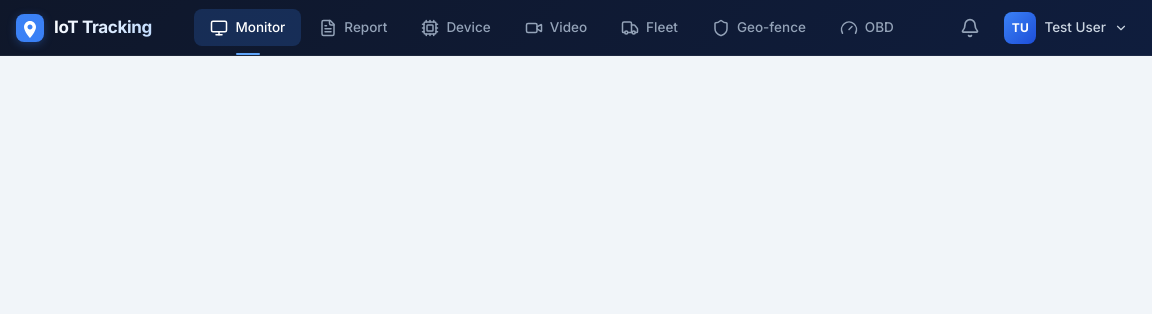
Test: TopNavbar › opens user dropdown on click
The image size is (1152, 314).
Click the button "TU Test User" at point(1068, 28), box [1000,8,1136,48]
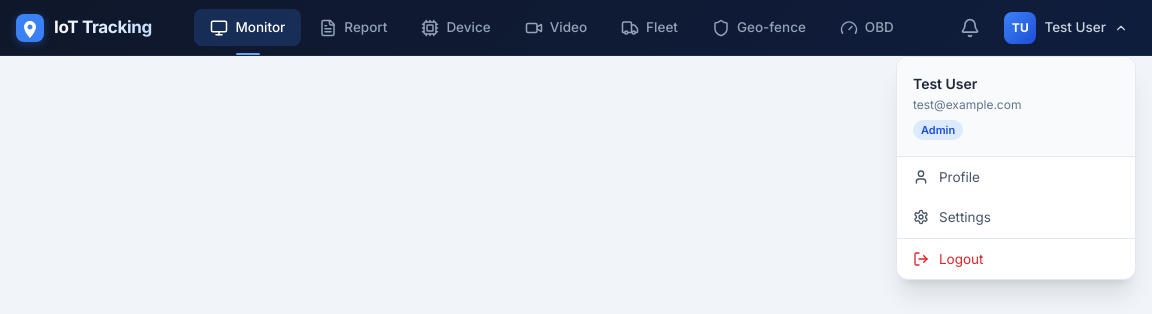
Now the text "test@example.com" is shown, box [913,96,1022,112]
Now the text "Profile" is shown, box [939,167,980,187]
Now the text "Settings" is shown, box [939,207,991,228]
